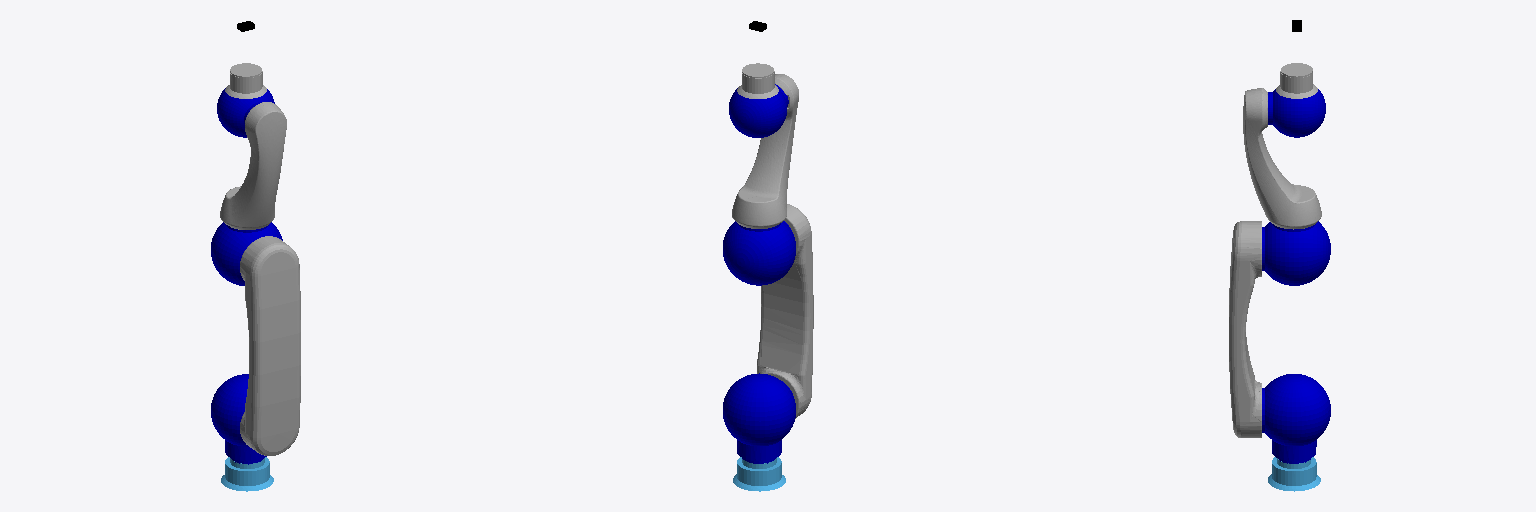
The robot description file, URDF, robot "lwa4p_pg70":
<?xml version="1.0" ?>
<!-- =================================================================================== -->
<!-- |    This document was autogenerated by xacro from lwa4p_pg70.urdf.xacro          | -->
<!-- |    EDITING THIS FILE BY HAND IS NOT RECOMMENDED                                 | -->
<!-- =================================================================================== -->
<robot name="lwa4p_pg70">
  <material name="Schunk/LightGrey">
    <color rgba="0.7 0.7 0.7 1.0"/>
  </material>
  <material name="Schunk/DarkGrey">
    <color rgba="0.4 0.4 0.4 1.0"/>
  </material>
  <material name="Schunk/Black">
    <color rgba="0.0 0.0 0.0 1.0"/>
  </material>
  <material name="Schunk/DarkGolden">
    <color rgba="0.4 0.4 0.3 1.0"/>
  </material>
  <material name="Schunk/Blue">
    <color rgba="0.0 0.0 0.8 1.0"/>
  </material>
  <!-- Used for fixing robot to Gazebo -->
  <link name="world"/>
  <!-- joint between base_link and lwa4p_extended_connector_link -->
  <joint name="arm_podest_joint" type="fixed">
    <origin rpy="0 0 0" xyz="0 0 0.052"/>
    <parent link="world"/>
    <child link="arm_podest_link"/>
  </joint>
  <link name="arm_podest_link">
    <inertial>
      <mass value="0.01"/>
      <origin xyz="0 0 0"/>
      <inertia ixx="0.001" ixy="0.0" ixz="0.0" iyy="0.001" iyz="0.0" izz="0.001"/>
    </inertial>
    <visual>
      <origin rpy="0 3.141592653589793 0" xyz="0 0 0"/>
      <geometry>
        <mesh filename="package://lwa4p_pg70/urdf/meshes/lwa4p/arm_base_link.dae"/>
      </geometry>
    </visual>
    <collision>
      <origin rpy="0 3.141592653589793 0" xyz="0 0 0"/>
      <geometry>
        <mesh filename="package://lwa4p_pg70/urdf/meshes/lwa4p/arm_base_link.dae"/>
      </geometry>
    </collision>
  </link>
  <joint name="arm_base_joint" type="fixed">
    <origin rpy="0 0 0" xyz="0 0 0.10"/>
    <parent link="arm_podest_link"/>
    <child link="arm_base_link"/>
  </joint>
  <link name="arm_base_link">
    <inertial>
      <mass value="0.01"/>
      <origin xyz="0 0 0"/>
      <inertia ixx="0.001" ixy="0.0" ixz="0.0" iyy="0.001" iyz="0.0" izz="0.001"/>
    </inertial>
  </link>
  <!-- joint between arm_0_link and arm_1_link -->
  <joint name="arm_1_joint" type="revolute">
    <origin rpy="0 0 0" xyz="0 0 0"/>
    <parent link="arm_base_link"/>
    <child link="arm_1_link"/>
    <axis xyz="0 0 1"/>
    <limit effort="370" lower="-2.947" upper="2.947" velocity="1.26"/>
    <!--safety_controller k_position="20" k_velocity="50" soft_lower_limit="${-6.28 + 0.01}" soft_upper_limit="${6.28 - 0.01}" /-->
  </joint>
  <link name="arm_1_link">
    <inertial>
      <mass value="0.01"/>
      <origin xyz="0 0 0"/>
      <inertia ixx="0.001" ixy="0.0" ixz="0.0" iyy="0.001" iyz="0.0" izz="0.001"/>
    </inertial>
    <!--
      <inertial>
        <origin xyz="0 0 0" rpy="0 0 0" />
        <mass value="0.29364"/>
        <inertia ixx="0.01" ixy="0" ixz="0" iyy="0.01" iyz="0" izz="0.01" />
      </inertial>
-->
    <visual>
      <origin rpy="0 0 0" xyz="0 0 0"/>
      <geometry>
        <mesh filename="package://lwa4p_pg70/urdf/meshes/lwa4p/arm_1_link.dae"/>
      </geometry>
      <material name="Schunk/Blue"/>
    </visual>
    <collision>
      <origin rpy="0 0 0" xyz="0 0 0"/>
      <geometry>
        <mesh filename="package://lwa4p_pg70/urdf/meshes/lwa4p/arm_1_link.dae"/>
      </geometry>
    </collision>
  </link>
  <!-- joint between arm_1_link and arm_2_link -->
  <joint name="arm_2_joint" type="revolute">
    <origin rpy="1.5708 0 0" xyz="0 0 0"/>
    <parent link="arm_1_link"/>
    <child link="arm_2_link"/>
    <axis xyz="0 0 1"/>
    <limit effort="370" lower="-2.947" upper="2.947" velocity="1.26"/>
    <!--safety_controller k_position="20" k_velocity="50" soft_lower_limit="${-2.09 + 0.01}" soft_upper_limit="${2.09 - 0.01}" /-->
  </joint>
  <link name="arm_2_link">
    <inertial>
      <mass value="0.01"/>
      <origin xyz="0 0 0"/>
      <inertia ixx="0.001" ixy="0.0" ixz="0.0" iyy="0.001" iyz="0.0" izz="0.001"/>
    </inertial>
    <!--
      <inertial>
        <origin xyz="0 0 0" rpy="0 0 0"/>
        <mass value="1.68311"/>
        <inertia ixx="0.03" ixy="0" ixz="0" iyy="0.03" iyz="0" izz="0.03" />
      </inertial>
-->
    <visual>
      <origin rpy="0 0 0" xyz="0 0 0"/>
      <geometry>
        <mesh filename="package://lwa4p_pg70/urdf/meshes/lwa4p/arm_2_link.dae"/>
      </geometry>
      <material name="Schunk/LightGrey"/>
    </visual>
    <collision>
      <origin rpy="0 0 0" xyz="0 0 0"/>
      <geometry>
        <mesh filename="package://lwa4p_pg70/urdf/meshes/lwa4p/arm_2_link.dae"/>
      </geometry>
    </collision>
  </link>
  <!-- joint between arm_2_link and arm_3_link -->
  <joint name="arm_3_joint" type="revolute">
    <origin rpy="0 3.14159 0" xyz="0 0.350 0"/>
    <parent link="arm_2_link"/>
    <child link="arm_3_link"/>
    <axis xyz="0 0 1"/>
    <limit effort="176" lower="-2.694" upper="2.694" velocity="1.26"/>
    <!--safety_controller k_position="20" k_velocity="25" soft_lower_limit="${-6.28 + 0.01}" soft_upper_limit="${6.28 - 0.01}" /-->
  </joint>
  <link name="arm_3_link">
    <inertial>
      <mass value="0.01"/>
      <origin xyz="0 0 0"/>
      <inertia ixx="0.001" ixy="0.0" ixz="0.0" iyy="0.001" iyz="0.0" izz="0.001"/>
    </inertial>
    <!--
      <inertial>
        <origin xyz="0 0 0" rpy="0 0 0"/>
        <mass value="2.1"/>
        <inertia ixx="0.03" ixy="0" ixz="0" iyy="0.03" iyz="0" izz="0.03" />
      </inertial>
-->
    <visual>
      <origin rpy="0 0 0" xyz="0 0 0"/>
      <geometry>
        <mesh filename="package://lwa4p_pg70/urdf/meshes/lwa4p/arm_3_link.dae"/>
      </geometry>
      <material name="Schunk/Blue"/>
    </visual>
    <collision>
      <origin rpy="0 0 0" xyz="0 0 0"/>
      <geometry>
        <mesh filename="package://lwa4p_pg70/urdf/meshes/lwa4p/arm_3_link.dae"/>
      </geometry>
    </collision>
  </link>
  <!-- joint between arm_3_link and arm_4_link -->
  <joint name="arm_4_joint" type="revolute">
    <origin rpy="-1.5708 3.14159 0" xyz="0 0 0"/>
    <parent link="arm_3_link"/>
    <child link="arm_4_link"/>
    <axis xyz="0 0 1"/>
    <limit effort="176" lower="-2.947" upper="2.947" velocity="1.26"/>
    <!--safety_controller k_position="20" k_velocity="25" soft_lower_limit="${-2.09 + 0.01}" soft_upper_limit="${2.09 - 0.01}" /-->
  </joint>
  <link name="arm_4_link">
    <inertial>
      <mass value="0.01"/>
      <origin xyz="0 0 0"/>
      <inertia ixx="0.001" ixy="0.0" ixz="0.0" iyy="0.001" iyz="0.0" izz="0.001"/>
    </inertial>
    <!--
      <inertial>
        <origin xyz="0 0 0" rpy="0 0 0"/>
        <mass value="1.68311"/>
        <inertia ixx="0.03" ixy="0" ixz="0" iyy="0.03" iyz="0" izz="0.03" />
      </inertial>
-->
    <visual>
      <origin rpy="0 0 0" xyz="0 0 0"/>
      <geometry>
        <mesh filename="package://lwa4p_pg70/urdf/meshes/lwa4p/arm_4_link.dae"/>
      </geometry>
      <material name="Schunk/LightGrey"/>
    </visual>
    <collision>
      <origin rpy="0 0 0" xyz="0 0 0"/>
      <geometry>
        <mesh filename="package://lwa4p_pg70/urdf/meshes/lwa4p/arm_4_link.dae"/>
      </geometry>
    </collision>
  </link>
  <!-- joint between arm_4_link and arm_5_link -->
  <joint name="arm_5_joint" type="revolute">
    <origin rpy="1.5708 0 3.14159" xyz="0 0.005263 0.305"/>
    <parent link="arm_4_link"/>
    <child link="arm_5_link"/>
    <axis xyz="0 0 1"/>
    <limit effort="41.6" lower="-2.947" upper="2.947" velocity="1.26"/>
    <!--safety_controller k_position="20" k_velocity="25" soft_lower_limit="${-6.28 + 0.01}" soft_upper_limit="${6.28 - 0.01}" /-->
  </joint>
  <link name="arm_5_link">
    <inertial>
      <mass value="0.01"/>
      <origin xyz="0 0 0"/>
      <inertia ixx="0.001" ixy="0.0" ixz="0.0" iyy="0.001" iyz="0.0" izz="0.001"/>
    </inertial>
    <!--
      <inertial>
        <origin xyz="0 0 0" rpy="0 0 0"/>
        <mass value="0.807"/>
        <inertia ixx="0.03" ixy="0" ixz="0" iyy="0.03" iyz="0" izz="0.03" />
      </inertial>
-->
    <visual>
      <origin rpy="0 0 0" xyz="0 0 0"/>
      <geometry>
        <mesh filename="package://lwa4p_pg70/urdf/meshes/lwa4p/arm_5_link.dae"/>
      </geometry>
      <material name="Schunk/Blue"/>
    </visual>
    <collision>
      <origin rpy="0 0 0" xyz="0 0 0"/>
      <geometry>
        <mesh filename="package://lwa4p_pg70/urdf/meshes/lwa4p/arm_5_link.dae"/>
      </geometry>
    </collision>
  </link>
  <!-- joint between arm_5_link and arm_6_link -->
  <joint name="arm_6_joint" type="revolute">
    <origin rpy="-1.5708 0 0" xyz="0 0 0"/>
    <parent link="arm_5_link"/>
    <child link="arm_6_link"/>
    <axis xyz="0 0 1"/>
    <limit effort="20.1" lower="-2.947" upper="2.947" velocity="1.26"/>
    <!--safety_controller k_position="20" k_velocity="25" soft_lower_limit="${-2.09 + 0.01}" soft_upper_limit="${2.09 - 0.01}" /-->
  </joint>
  <link name="arm_6_link">
    <inertial>
      <mass value="0.01"/>
      <origin xyz="0 0 0"/>
      <inertia ixx="0.001" ixy="0.0" ixz="0.0" iyy="0.001" iyz="0.0" izz="0.001"/>
    </inertial>
    <!--
      <inertial>
        <origin xyz="0 0 0" rpy="0 0 0"/>
        <mass value="0.819"/>
        <inertia ixx="0.01" ixy="0" ixz="0" iyy="0.01" iyz="0" izz="0.01" />
      </inertial>
-->
    <visual>
      <origin rpy="0 0 0" xyz="0 0 0"/>
      <geometry>
        <mesh filename="package://lwa4p_pg70/urdf/meshes/lwa4p/arm_6_link.dae"/>
      </geometry>
      <material name="Schunk/LightGrey"/>
    </visual>
    <collision>
      <origin rpy="0 0 0" xyz="0 0 0"/>
      <geometry>
        <mesh filename="package://lwa4p_pg70/urdf/meshes/lwa4p/arm_6_link.dae"/>
      </geometry>
    </collision>
  </link>
  <gazebo reference="arm_0_link">
    <gravity>true</gravity>
    <self_collide>false</self_collide>
    <material value="Schunk/LightGrey"/>
  </gazebo>
  <gazebo reference="arm_1_link">
    <gravity>true</gravity>
    <self_collide>false</self_collide>
    <material value="Schunk/Blue"/>
  </gazebo>
  <gazebo reference="arm_2_link">
    <gravity>true</gravity>
    <self_collide>false</self_collide>
    <material value="Schunk/LightGrey"/>
  </gazebo>
  <gazebo reference="arm_3_link">
    <gravity>true</gravity>
    <self_collide>false</self_collide>
    <material value="Schunk/Blue"/>
  </gazebo>
  <gazebo reference="arm_4_link">
    <gravity>true</gravity>
    <self_collide>false</self_collide>
    <material value="Schunk/LightGrey"/>
  </gazebo>
  <gazebo reference="arm_5_link">
    <gravity>true</gravity>
    <self_collide>false</self_collide>
    <material value="Schunk/Blue"/>
  </gazebo>
  <gazebo reference="arm_6_link">
    <gravity>true</gravity>
    <self_collide>false</self_collide>
    <material value="Schunk/LightGrey"/>
  </gazebo>
  <transmission name="arm_1_trans">
    <type>transmission_interface/SimpleTransmission</type>
    <joint name="arm_1_joint">
      <hardwareInterface>hardware_interface/PositionJointInterface</hardwareInterface>
      <hardwareInterface>hardware_interface/VelocityJointInterface</hardwareInterface>
      <!--hardwareInterface>EffortJointInterface</hardwareInterface-->
    </joint>
    <actuator name="arm_1_motor">
      <mechanicalReduction>1</mechanicalReduction>
    </actuator>
  </transmission>
  <transmission name="arm_2_trans">
    <type>transmission_interface/SimpleTransmission</type>
    <joint name="arm_2_joint">
      <hardwareInterface>hardware_interface/PositionJointInterface</hardwareInterface>
      <hardwareInterface>hardware_interface/VelocityJointInterface</hardwareInterface>
      <!--hardwareInterface>EffortJointInterface</hardwareInterface-->
    </joint>
    <actuator name="arm_2_motor">
      <mechanicalReduction>1</mechanicalReduction>
    </actuator>
  </transmission>
  <transmission name="arm_3_trans">
    <type>transmission_interface/SimpleTransmission</type>
    <joint name="arm_3_joint">
      <hardwareInterface>hardware_interface/PositionJointInterface</hardwareInterface>
      <hardwareInterface>hardware_interface/VelocityJointInterface</hardwareInterface>
      <!--hardwareInterface>EffortJointInterface</hardwareInterface-->
    </joint>
    <actuator name="arm_3_motor">
      <mechanicalReduction>1</mechanicalReduction>
    </actuator>
  </transmission>
  <transmission name="arm_4_trans">
    <type>transmission_interface/SimpleTransmission</type>
    <joint name="arm_4_joint">
      <hardwareInterface>hardware_interface/PositionJointInterface</hardwareInterface>
      <hardwareInterface>hardware_interface/VelocityJointInterface</hardwareInterface>
      <!--hardwareInterface>EffortJointInterface</hardwareInterface-->
    </joint>
    <actuator name="arm_4_motor">
      <mechanicalReduction>1</mechanicalReduction>
    </actuator>
  </transmission>
  <transmission name="arm_5_trans">
    <type>transmission_interface/SimpleTransmission</type>
    <joint name="arm_5_joint">
      <hardwareInterface>hardware_interface/PositionJointInterface</hardwareInterface>
      <hardwareInterface>hardware_interface/VelocityJointInterface</hardwareInterface>
      <!--hardwareInterface>EffortJointInterface</hardwareInterface-->
    </joint>
    <actuator name="arm_5_motor">
      <mechanicalReduction>1</mechanicalReduction>
    </actuator>
  </transmission>
  <transmission name="arm_6_trans">
    <type>transmission_interface/SimpleTransmission</type>
    <joint name="arm_6_joint">
      <hardwareInterface>hardware_interface/PositionJointInterface</hardwareInterface>
      <hardwareInterface>hardware_interface/VelocityJointInterface</hardwareInterface>
      <!--hardwareInterface>EffortJointInterface</hardwareInterface-->
    </joint>
    <actuator name="arm_6_motor">
      <mechanicalReduction>1</mechanicalReduction>
    </actuator>
  </transmission>
  <!-- ros_control plugin -->
  <gazebo>
    <plugin filename="libhwi_switch_gazebo_ros_control.so" name="ros_control">
      <robotNamespace>arm</robotNamespace>
      <filterJointsParam>joint_names</filterJointsParam>
    </plugin>
  </gazebo>
  <joint name="arm_palm_joint" type="fixed">
    <origin rpy="0 0 0" xyz="0 0 0.10"/>
    <parent link="arm_6_link"/>
    <child link="arm_palm_link"/>
  </joint>
  <link name="arm_palm_link">
    <inertial>
      <origin rpy="0 0 0" xyz="0 0 0"/>
      <mass value="1"/>
      <inertia ixx="0.01" ixy="0" ixz="0" iyy="0.01" iyz="0" izz="0.01"/>
    </inertial>
    <visual>
      <geometry>
        <mesh filename="package://lwa4p_pg70/urdf/meshes/pg70/pg70.dae"/>
      </geometry>
    </visual>
    <collision>
      <origin rpy="0 0 0" xyz="0 0 0.03145"/>
      <geometry>
        <box size="0.082 0.114 0.080"/>
      </geometry>
    </collision>
  </link>
  <joint name="arm_finger_left_joint" type="prismatic">
    <origin rpy="0 0 0" xyz="0 0.0055 0.0789"/>
    <parent link="arm_palm_link"/>
    <child link="arm_finger_left_link"/>
    <axis xyz="0 1 0"/>
    <limit effort="10" lower="-0.001" upper="0.0301" velocity="0.041"/>
  </joint>
  <link name="arm_finger_left_link">
    <inertial>
      <origin rpy="0 0 0" xyz="0 0 0"/>
      <mass value="1"/>
      <inertia ixx="0.01" ixy="0" ixz="0" iyy="0.01" iyz="0" izz="0.01"/>
    </inertial>
    <visual>
      <geometry>
        <box size="0.03 0.01 0.01"/>
      </geometry>
      <material name="black">
        <color rgba="0 0 0 1"/>
      </material>
    </visual>
    <collision>
      <geometry>
        <box size="0.03 0.01 0.01"/>
      </geometry>
      <material name="black">
        <color rgba="0 0 0 1"/>
      </material>
    </collision>
  </link>
  <joint name="arm_finger_right_joint" type="prismatic">
    <origin rpy="-0 0 0" xyz="0 -0.0055 0.0789"/>
    <parent link="arm_palm_link"/>
    <child link="arm_finger_right_link"/>
    <axis xyz="0 -1 0"/>
    <mimic joint="arm_finger_left_joint" multiplier="1" offset="0"/>
    <limit effort="10" lower="-0.001" upper="0.0301" velocity="0.041"/>
  </joint>
  <link name="arm_finger_right_link">
    <inertial>
      <origin rpy="0 0 0" xyz="0 0 0"/>
      <mass value="1"/>
      <inertia ixx="0.01" ixy="0" ixz="0" iyy="0.01" iyz="0" izz="0.01"/>
    </inertial>
    <visual>
      <geometry>
        <box size="0.03 0.01 0.01"/>
      </geometry>
      <material name="black">
        <color rgba="0 0 0 1"/>
      </material>
    </visual>
    <collision>
      <geometry>
        <box size="0.03 0.01 0.01"/>
      </geometry>
      <material name="black">
        <color rgba="0 0 0 1"/>
      </material>
    </collision>
  </link>
  <gazebo reference="arm_palm_link">
    <gravity>true</gravity>
    <self_collide>false</self_collide>
  </gazebo>
  <gazebo reference="arm_finger_left_link">
    <gravity>true</gravity>
    <self_collide>false</self_collide>
  </gazebo>
  <gazebo reference="arm_finger_right_link">
    <gravity>true</gravity>
    <self_collide>false</self_collide>
  </gazebo>
  <transmission name="arm_finger_left_trans">
    <type>transmission_interface/SimpleTransmission</type>
    <joint name="arm_finger_left_joint">
      <hardwareInterface>hardware_interface/PositionJointInterface</hardwareInterface>
      <hardwareInterface>hardware_interface/VelocityJointInterface</hardwareInterface>
      <!--hardwareInterface>EffortJointInterface</hardwareInterface-->
    </joint>
    <actuator name="arm_finger_left_motor">
      <mechanicalReduction>1</mechanicalReduction>
    </actuator>
  </transmission>
  <transmission name="arm_finger_right_trans">
    <type>transmission_interface/SimpleTransmission</type>
    <joint name="arm_finger_right_joint">
      <hardwareInterface>hardware_interface/PositionJointInterface</hardwareInterface>
      <hardwareInterface>hardware_interface/VelocityJointInterface</hardwareInterface>
      <!--hardwareInterface>EffortJointInterface</hardwareInterface-->
    </joint>
    <actuator name="arm_finger_right_motor">
      <mechanicalReduction>1</mechanicalReduction>
    </actuator>
  </transmission>
  <!-- ros_control plugin -->
  <gazebo>
    <plugin filename="libhwi_switch_gazebo_ros_control.so" name="ros_control">
      <robotNamespace>arm</robotNamespace>
      <filterJointsParam>joint_names</filterJointsParam>
    </plugin>
  </gazebo>
</robot>

--- What the picture shows (computed from the rendered views, not written in the file) ---
The picture shows the robot from 3 angles, left to right: view 1: azimuth 30°, elevation 25°; view 2: azimuth 150°, elevation 25°; view 3: azimuth 270°, elevation 25°; orthographic projection.
Robot: lwa4p_pg70 — 12 links, 11 joints (6 revolute, 2 prismatic, 3 fixed); root link world; default pose: every joint at zero.
Links seen in each view (by area): view 1: arm_2_link, arm_4_link, arm_1_link, arm_3_link, arm_podest_link, arm_5_link, arm_6_link; view 2: arm_2_link, arm_1_link, arm_4_link, arm_3_link, arm_5_link, arm_podest_link, arm_6_link; view 3: arm_2_link, arm_1_link, arm_4_link, arm_3_link, arm_5_link, arm_podest_link, arm_6_link.
Link boxes in pixels (bbox=[...]): arm_2_link: bbox=[240, 236, 300, 455]; arm_4_link: bbox=[220, 102, 286, 229]; arm_1_link: bbox=[211, 374, 266, 464]; arm_3_link: bbox=[211, 222, 282, 285]; arm_podest_link: bbox=[221, 457, 273, 491]; arm_5_link: bbox=[217, 88, 274, 137]; arm_6_link: bbox=[225, 63, 266, 98]; arm_2_link: bbox=[757, 204, 813, 418]; arm_1_link: bbox=[723, 373, 795, 463]; arm_4_link: bbox=[732, 74, 798, 228]; arm_3_link: bbox=[723, 221, 795, 285]; arm_5_link: bbox=[729, 84, 788, 137]; arm_podest_link: bbox=[733, 457, 785, 491]; arm_6_link: bbox=[737, 63, 778, 98]; arm_2_link: bbox=[1229, 221, 1261, 437]; arm_1_link: bbox=[1262, 374, 1330, 463]; arm_4_link: bbox=[1243, 88, 1321, 229]; arm_3_link: bbox=[1262, 221, 1330, 285]; arm_5_link: bbox=[1268, 89, 1325, 137]; arm_podest_link: bbox=[1268, 457, 1320, 491]; arm_6_link: bbox=[1276, 63, 1317, 98].
Bounding box of the posed robot: 0.1447 × 0.2009 × 0.9902 m (x, y, z).
Meshes: 8 distinct files referenced, 7 mesh visuals loaded (7 Collada DAE); not drawn: 1 (reference not matched to a file when rendering).